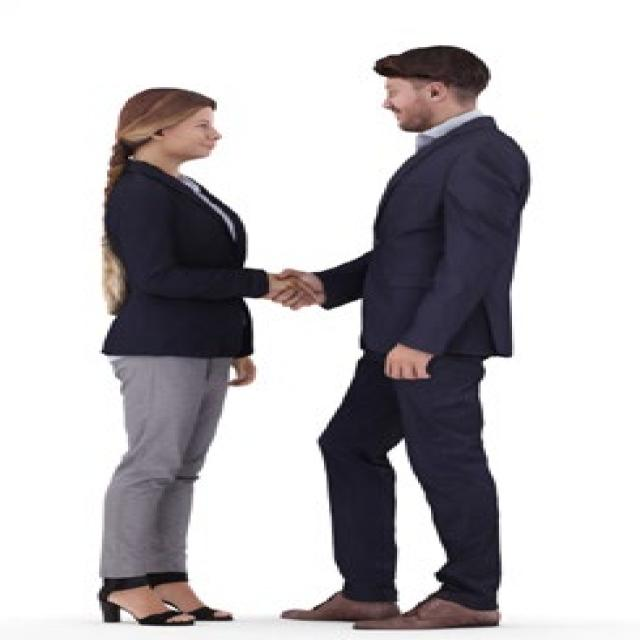standing: (270, 42, 538, 630), (87, 86, 282, 628)
